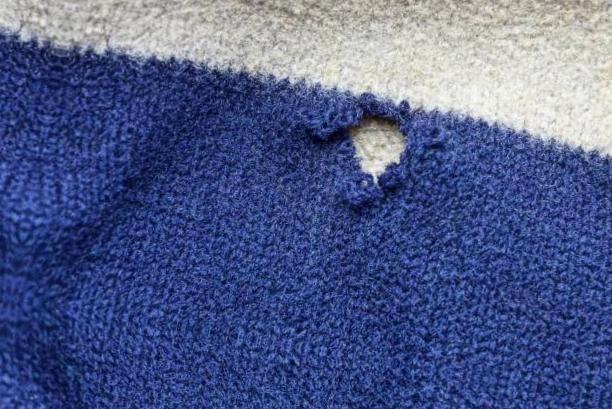hole: (329, 102, 418, 190)
